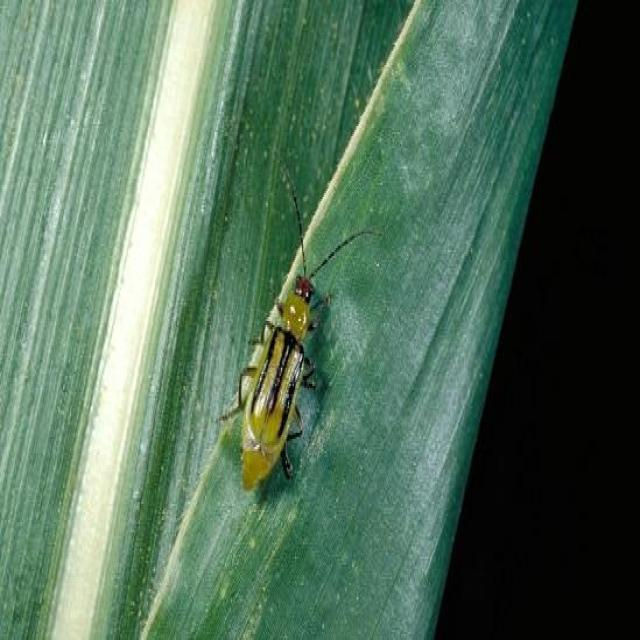trips: (228, 178, 358, 516)
